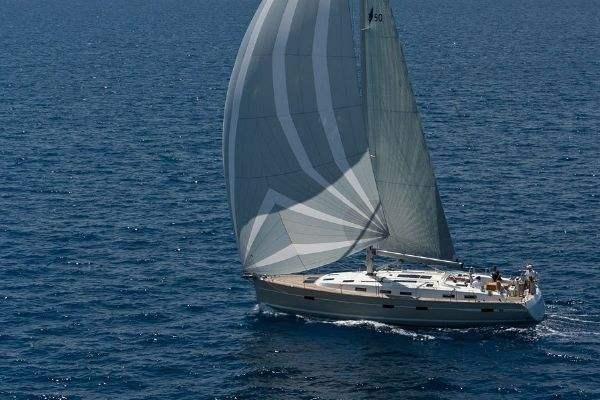fanchuan: (221, 1, 547, 323)
